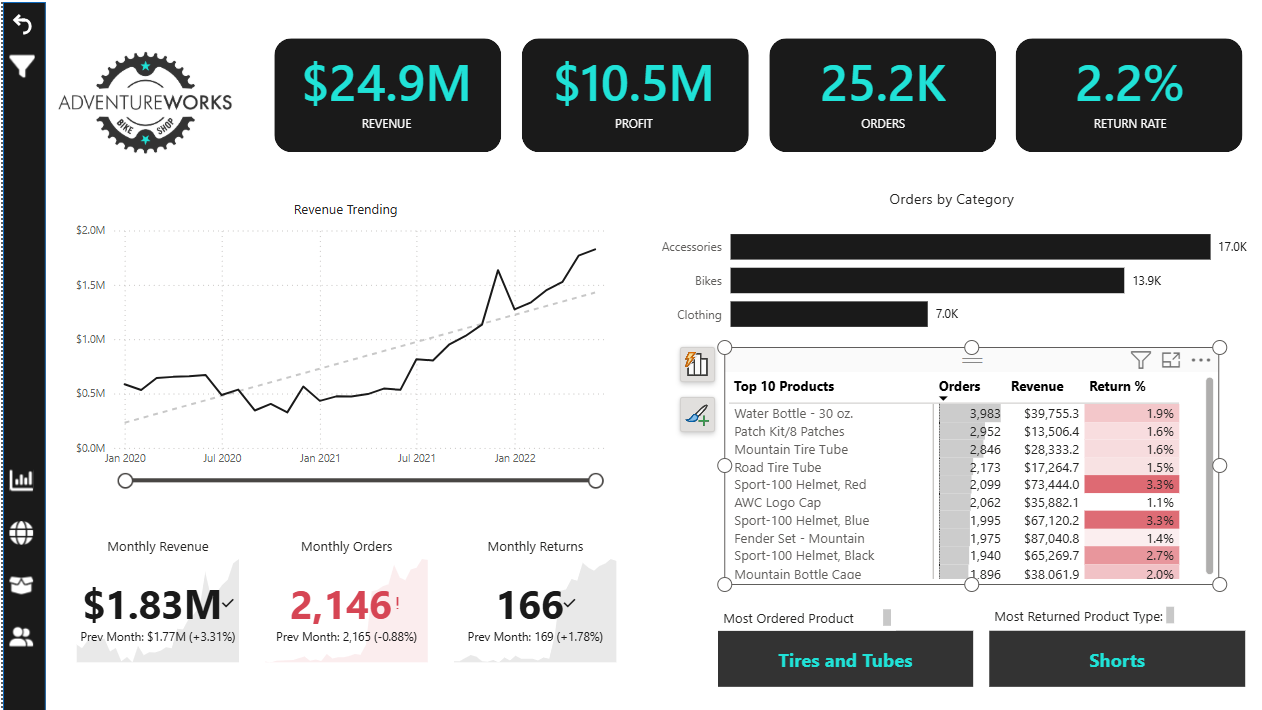

This screenshot's page, from the dashboard's own definition file:
{"tool":"powerbi","page":{"name":"Executive Dashboard","canvas":[1280,720],"ordinal":0},"visuals":[{"type":"image","title":"AW Logo","box":[0,47.9,289.3,107.7],"z":0},{"type":"shape","box":[274.7,36.9,230,115.6],"z":1000},{"type":"shape","title":"Left Nav Background","box":[0,0,43.3,720],"z":2000},{"type":"cardVisual","fields":{"Data":["Measure Table.Total Revenue"]},"box":[266.3,30.3,245.2,115.7],"z":3000},{"type":"shape","box":[525,36.9,230,115.6],"z":4000},{"type":"shape","box":[775.4,36.9,230,115.6],"z":5000},{"type":"shape","box":[1025.8,36.9,230,115.6],"z":6000},{"type":"cardVisual","fields":{"Data":["Measure Table.Total Profit"]},"box":[517,30.3,245.2,115.7],"z":7000},{"type":"cardVisual","fields":{"Data":["Measure Table.Total Orders"]},"box":[767.8,30.3,246.1,115.7],"z":8000},{"type":"cardVisual","fields":{"Data":["Measure Table.Return Rate"]},"box":[1019.4,30.3,245.6,115.6],"z":9000},{"type":"lineChart","title":"Revenue Trending","fields":{"Category":["Calendar Lookup.Year","Calendar Lookup.Start of Quarter","Calendar Lookup.Start of Month"],"Y":["Measure Table.Total Revenue"]},"box":[68.9,200.2,557.4,295.7],"z":10000},{"type":"kpi","title":"Monthly Revenue","fields":{"Goal":["Measure Table.Previous Month Revenue"],"Indicator":["Measure Table.Total Revenue"],"TrendLine":["Calendar Lookup.Start of Month"]},"box":[69.9,541.6,174.4,132.2],"z":11000},{"type":"kpi","title":"Monthly Returns","fields":{"Goal":["Measure Table.Previous Month Returns"],"Indicator":["Measure Table.Total Returns"],"TrendLine":["Calendar Lookup.Start of Month"]},"box":[452.1,541.6,174.4,132.2],"z":12000},{"type":"kpi","title":"Monthly Orders","fields":{"Goal":["Measure Table.Previous Month Orders"],"Indicator":["Measure Table.Total Orders"],"TrendLine":["Calendar Lookup.Start of Month"]},"box":[261,541.6,174.4,132.2],"z":13000},{"type":"clusteredBarChart","title":"Orders by Category","fields":{"Category":["Product Categories Lookup.CategoryName"],"Y":["Measure Table.Total Orders"]},"box":[656.5,188.6,607.6,160.6],"z":14000},{"type":"pivotTable","fields":{"Rows":["Product Lookup.ProductName"],"Values":["Measure Table.Total Orders","Measure Table.Total Revenue","Measure Table.Return Rate"]},"box":[730.3,375.1,500.8,214.5],"z":15000},{"type":"cardVisual","fields":{"Data":["Min(Product Subcategories Lookup.SubcategoryName)"]},"box":[723.5,637.3,258.4,56.9],"z":16000},{"type":"textbox","box":[723.7,609.8,180,26.6],"z":17000},{"type":"cardVisual","fields":{"Data":["Min(Product Subcategories Lookup.SubcategoryName)"]},"box":[999.2,636.8,259.4,56.9],"z":18000},{"type":"textbox","box":[999.2,608,191.9,26.6],"z":19000},{"type":"actionButton","box":[4.6,7.3,34,29.4],"z":20000},{"type":"actionButton","box":[2.8,461.9,32.1,45],"z":21000},{"type":"actionButton","box":[2.8,567.9,32.1,45],"z":22000},{"type":"actionButton","box":[2.8,620.8,32.1,45],"z":23000},{"type":"actionButton","box":[2.8,514.9,32.1,45],"z":24000},{"type":"actionButton","box":[2.8,47.8,34.9,34],"z":25000}]}

Visuals, with their boxes on the page's 1280x720 design canvas (x1, y1, x2, y2). These are canvas units, not pixel positions in the 1262x710 screenshot, which may show the page scaled, cropped or inside an application window:
"AW Logo" image: left=0, top=48, right=289, bottom=156
shape: left=275, top=37, right=505, bottom=152
"Left Nav Background" shape: left=0, top=0, right=43, bottom=720
cardVisual - Measure Table.Total Revenue: left=266, top=30, right=512, bottom=146
shape: left=525, top=37, right=755, bottom=152
shape: left=775, top=37, right=1005, bottom=152
shape: left=1026, top=37, right=1256, bottom=152
cardVisual - Measure Table.Total Profit: left=517, top=30, right=762, bottom=146
cardVisual - Measure Table.Total Orders: left=768, top=30, right=1014, bottom=146
cardVisual - Measure Table.Return Rate: left=1019, top=30, right=1265, bottom=146
"Revenue Trending" lineChart: left=69, top=200, right=626, bottom=496
"Monthly Revenue" kpi: left=70, top=542, right=244, bottom=674
"Monthly Returns" kpi: left=452, top=542, right=626, bottom=674
"Monthly Orders" kpi: left=261, top=542, right=435, bottom=674
"Orders by Category" clusteredBarChart: left=656, top=189, right=1264, bottom=349
pivotTable - Product Lookup.ProductName x Measure Table.Total Orders: left=730, top=375, right=1231, bottom=590
cardVisual - Min(Product Subcategories Lookup.SubcategoryName): left=724, top=637, right=982, bottom=694
textbox: left=724, top=610, right=904, bottom=636
cardVisual - Min(Product Subcategories Lookup.SubcategoryName): left=999, top=637, right=1259, bottom=694
textbox: left=999, top=608, right=1191, bottom=635
actionButton: left=5, top=7, right=39, bottom=37
actionButton: left=3, top=462, right=35, bottom=507
actionButton: left=3, top=568, right=35, bottom=613
actionButton: left=3, top=621, right=35, bottom=666
actionButton: left=3, top=515, right=35, bottom=560
actionButton: left=3, top=48, right=38, bottom=82
